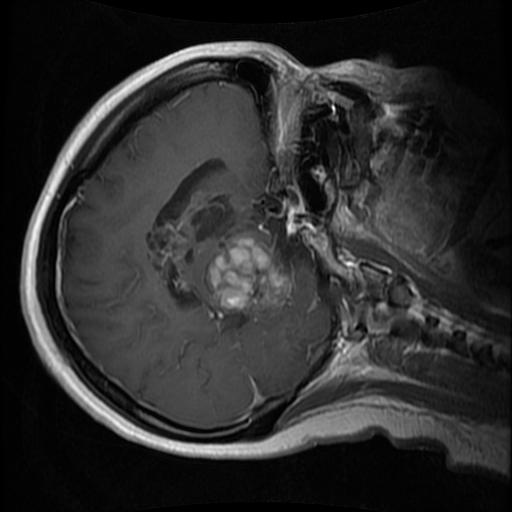glioma: (140, 191, 298, 334)
